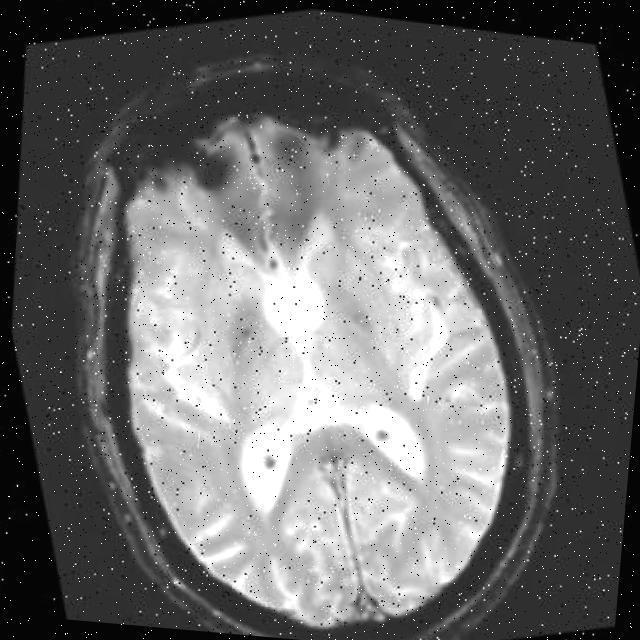MCI: (164, 131, 243, 225), (241, 106, 317, 188)
